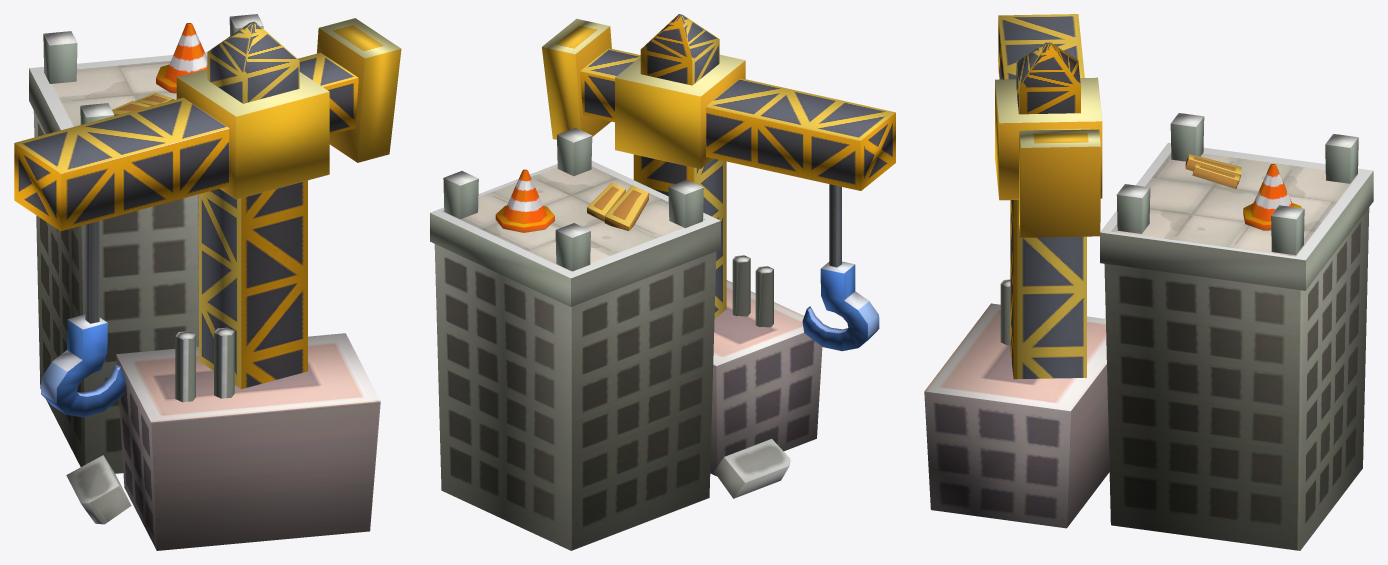
The model's file is HighFinanceOdysseyStatue.fbx.
3 views of the same model, side by side, from view 1: azimuth 30°, elevation 25°; view 2: azimuth 150°, elevation 25°; view 3: azimuth 270°, elevation 25° (orthographic). The views are drawn at different scales.
Visible parts, largest first — view 1: Building, Crane, Hook; view 2: Building, Crane, Hook; view 3: Building, Crane.
Boxes of the visible parts, x1,y1,x2,y2 form: Building: (29,14,380,550); Crane: (14,18,401,389); Hook: (41,221,125,417); Building: (430,127,822,550); Crane: (542,14,895,318); Hook: (802,184,879,351); Building: (924,113,1373,550); Crane: (995,14,1102,379).
Size of the model in its own units: 20.06 by 24.96 by 22.62.
